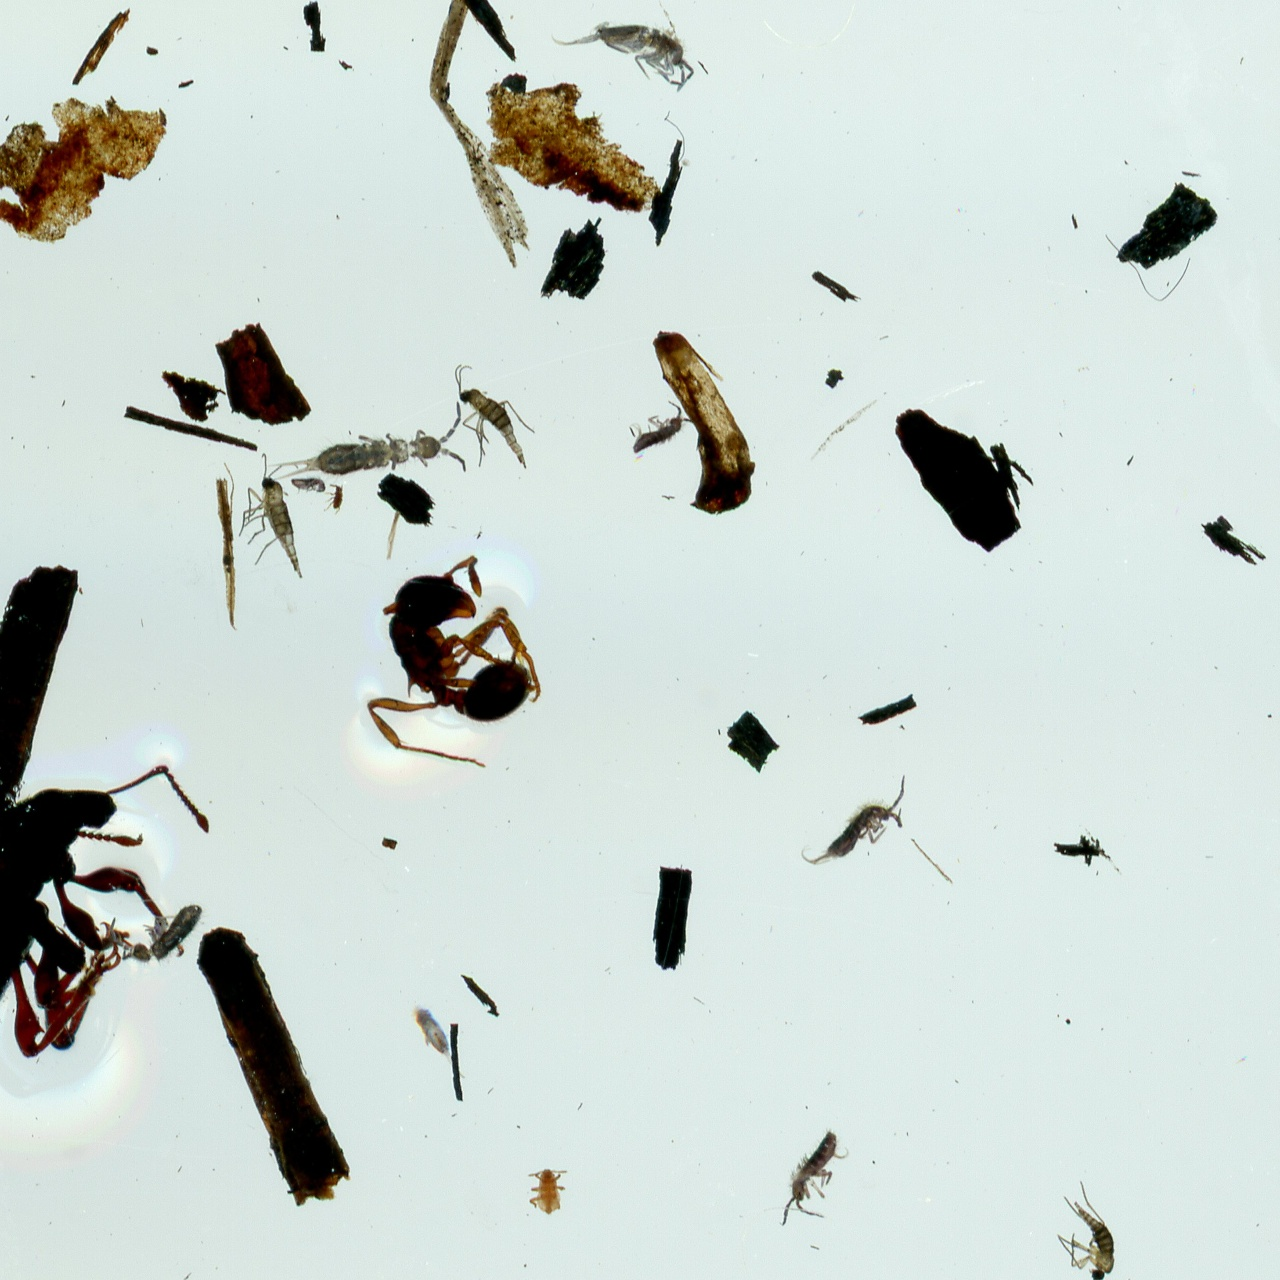arthropod: (0, 689, 274, 1148), (363, 553, 544, 771), (257, 399, 472, 497), (793, 756, 933, 895), (217, 444, 332, 595), (544, 0, 711, 100), (93, 865, 215, 990), (760, 1115, 868, 1245), (452, 364, 536, 471), (613, 387, 701, 477), (1056, 1178, 1133, 1280), (403, 998, 479, 1086), (526, 1166, 569, 1216), (323, 484, 344, 516), (293, 476, 324, 493)
